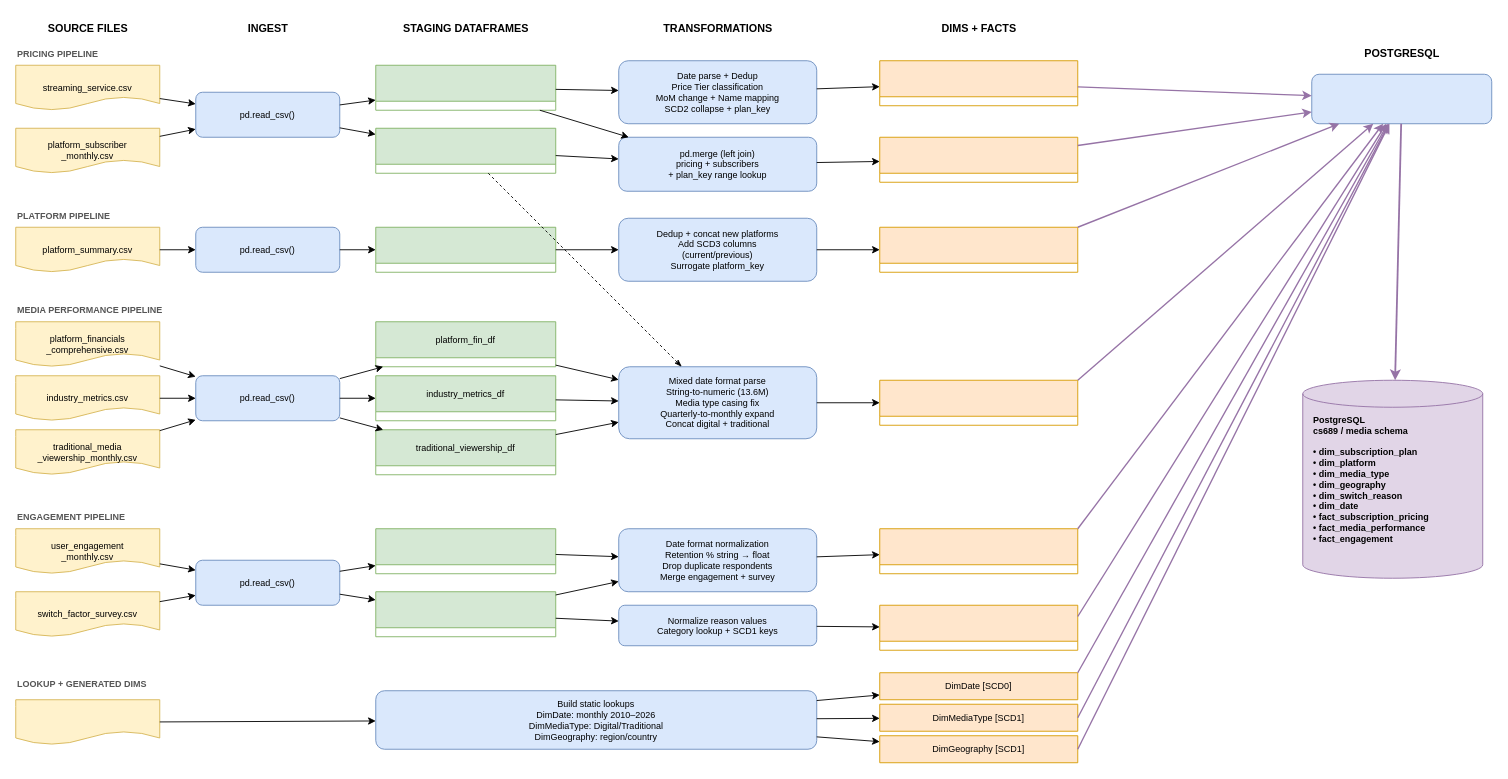
Some shapes in this 1508 by 779 pixel diagram are drawn without their labels. Here are the shapes that lost their labels. From the top down, the centre of each, then its label:
At [465,87]: "streaming_df".
At [978,83]: "DimSubscriptionPlan [SCD2] (27 rows)".
At [1401,98]: "psycopg2 + execute_values() Load all dims and facts".
At [465,150]: "platform_subs_df".
At [978,159]: "FactSubscriptionPricing (777 rows)".
At [465,249]: "platform_df".
At [978,249]: "DimPlatform [SCD3] (12 rows)".
At [978,402]: "FactMediaPerformance (Cumulative)".
At [465,551]: "user_engagement_df".
At [978,551]: "FactEngagement (Transactional Snapshot)".
At [465,614]: "survey_df".
At [978,627]: "DimSwitchReason [SCD1]".
At [87,722]: "(Hardcoded lookup lists + pd.date_range for Dates)".
